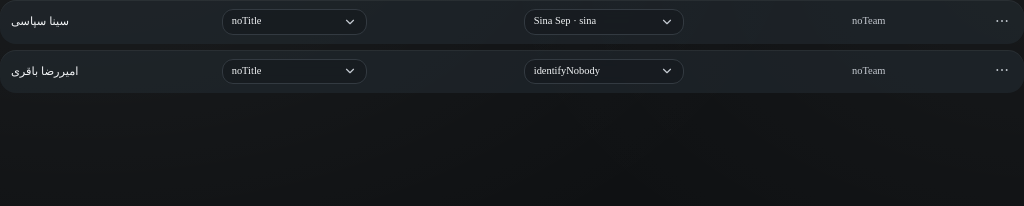
the account a speaker is › MARKS the server's guess and does not apply it
Click the button with aria-label "colMember": (604, 71) [524, 59, 684, 84]
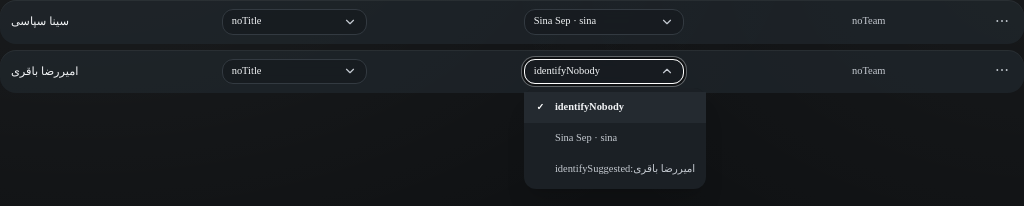
Expected: the option "identifySuggested:امیررضا باقری" is shown, [524, 154, 706, 185]
